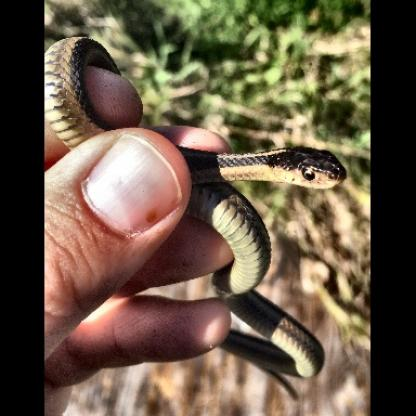Snake: (55, 45, 349, 254)
